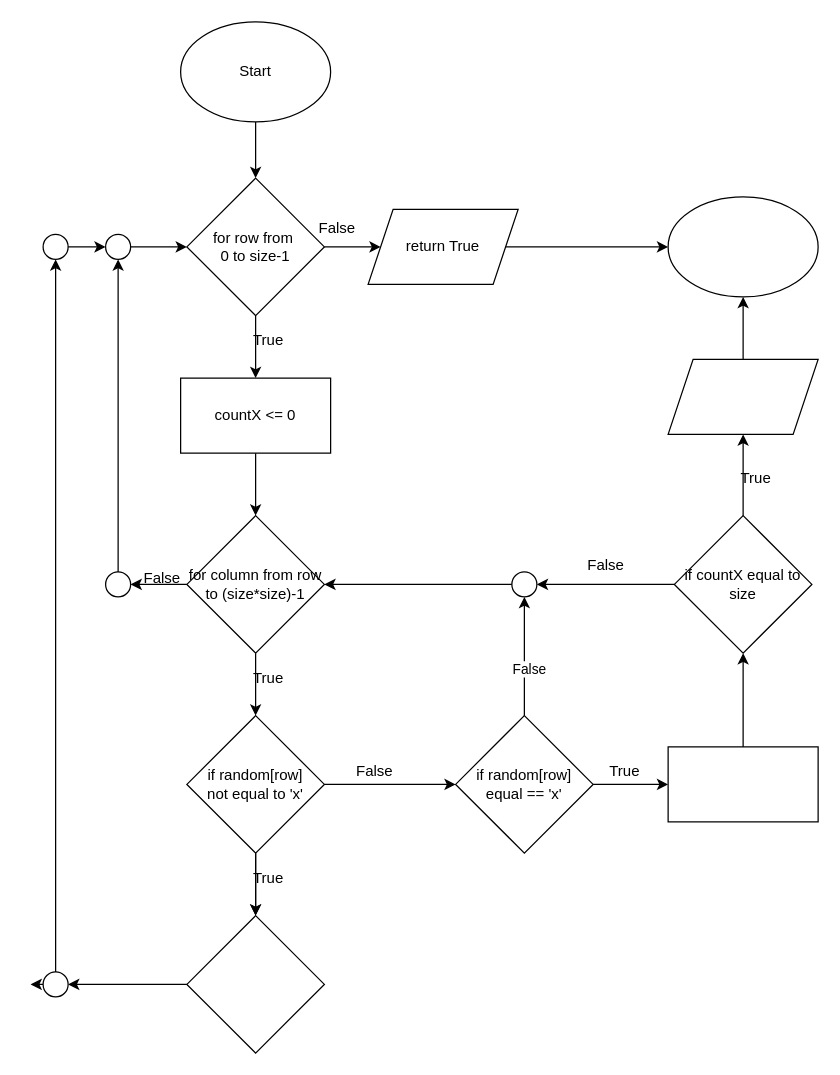
Some shapes in this 840 by 1075 pixel diagram are drawn without their labels. Each missing label, with the box of its shape:
break?: (186, 914, 324, 1053)
countX <= countX + 1: (667, 746, 818, 822)
End: (667, 196, 818, 297)
return False: (667, 358, 818, 434)
